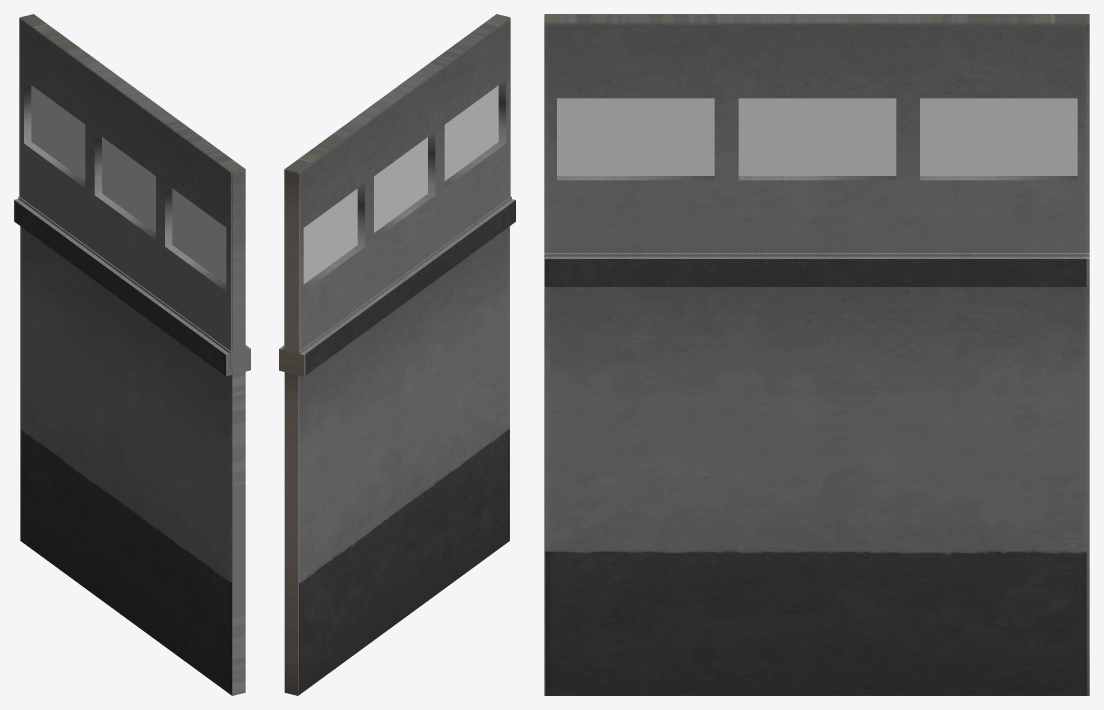
The model's file is Wall_Medium_windowed2.fbx.
The picture shows the model from 3 angles, left to right: view 1: azimuth 30°, elevation 25°; view 2: azimuth 150°, elevation 25°; view 3: azimuth 270°, elevation 25°; orthographic projection. The views are drawn at different scales.
Visible parts, largest first — view 1: Wall_Medium_windowed2; view 2: Wall_Medium_windowed2; view 3: Wall_Medium_windowed2.
Boxes of the visible parts, box(x1,y1,x2,y2) form: Wall_Medium_windowed2: box(14, 14, 250, 695); Wall_Medium_windowed2: box(279, 14, 515, 695); Wall_Medium_windowed2: box(544, 14, 1089, 695).
Size of the model in its own units: 0.4076 by 8.12 by 5.96.
